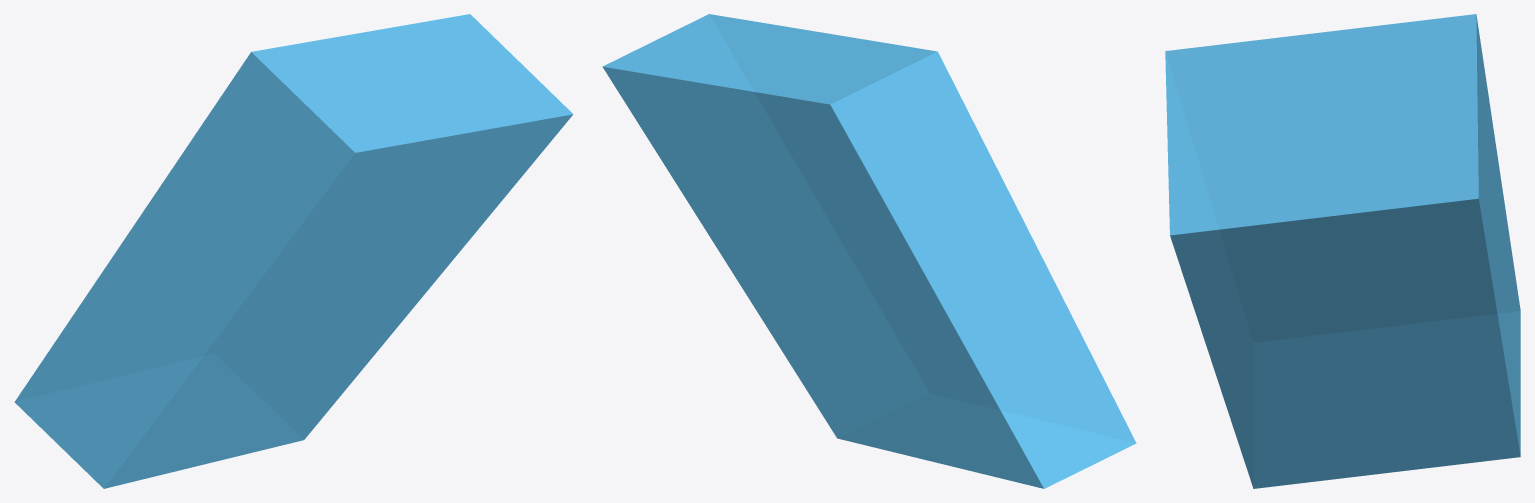
Rendered from Event_421127236_HBrechit_34.fbx.
3 views of the same model, side by side, from view 1: azimuth 30°, elevation 25°; view 2: azimuth 150°, elevation 25°; view 3: azimuth 270°, elevation 25° (orthographic). The views are drawn at different scales.
Parts seen in each view (by area): view 1: Model; view 2: Model; view 3: Model.
Part boxes in pixels (x1=…): Model: x1=14, y1=14, x2=573, y2=488; Model: x1=602, y1=14, x2=1136, y2=488; Model: x1=1165, y1=14, x2=1520, y2=488.
Bounding box in the file's own units: 1.14 × 0.807 × 0.5298.
